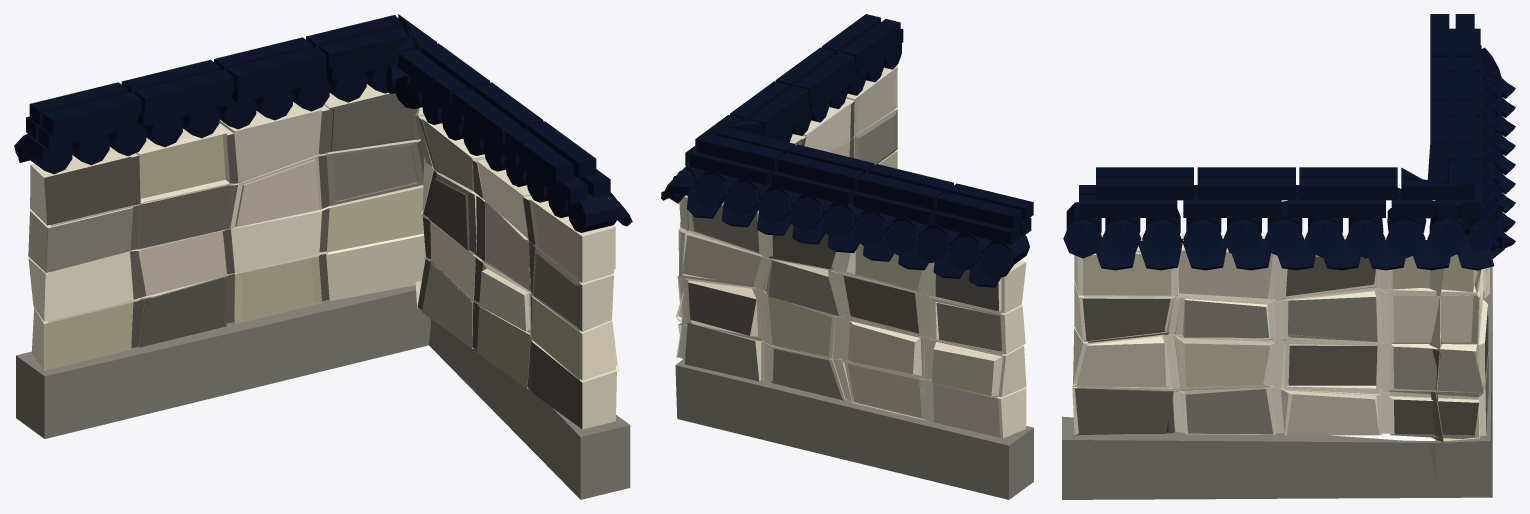
Rendered from tranditional_wall2blend.fbx.
3 views of the same model, side by side, from view 1: azimuth 30°, elevation 25°; view 2: azimuth 150°, elevation 25°; view 3: azimuth 270°, elevation 25° (orthographic). The views are drawn at different scales.
Visible parts, largest first — view 1: Circle; view 2: Circle; view 3: Circle.
Boxes of the visible parts, box(x1,y1,x2,y2) form: Circle: box(14, 14, 632, 499); Circle: box(661, 14, 1033, 499); Circle: box(1062, 14, 1515, 499).
Bounding box in the file's own units: 155 × 115 × 155.
